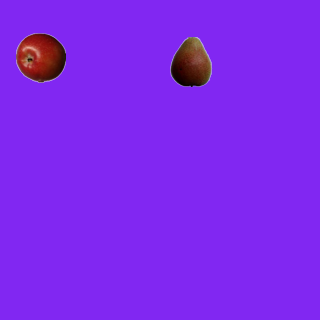Apple Braeburn: (15, 32, 65, 82)
Pear Forelle: (165, 36, 215, 86)
